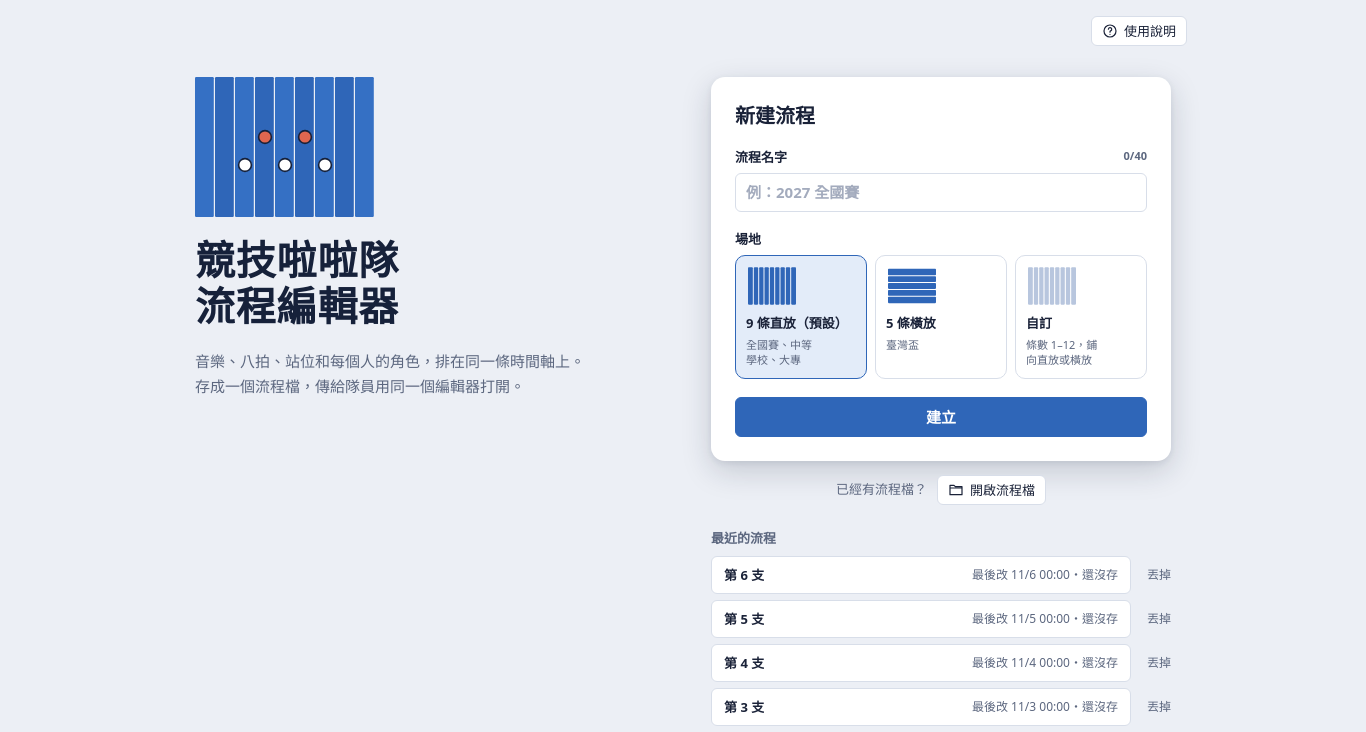
Test: 首頁：最近的流程 › 改過沒存的草稿超過 5 支：首頁提醒有幾支還沒存；教練丟掉一支，剩 5 支就不提醒
What coordinates should you click on to do the following:
click the button with aria-label "丟掉「第 3 支」"
I would click on:
 (1159, 707)
Its box is [1147,697,1171,717].
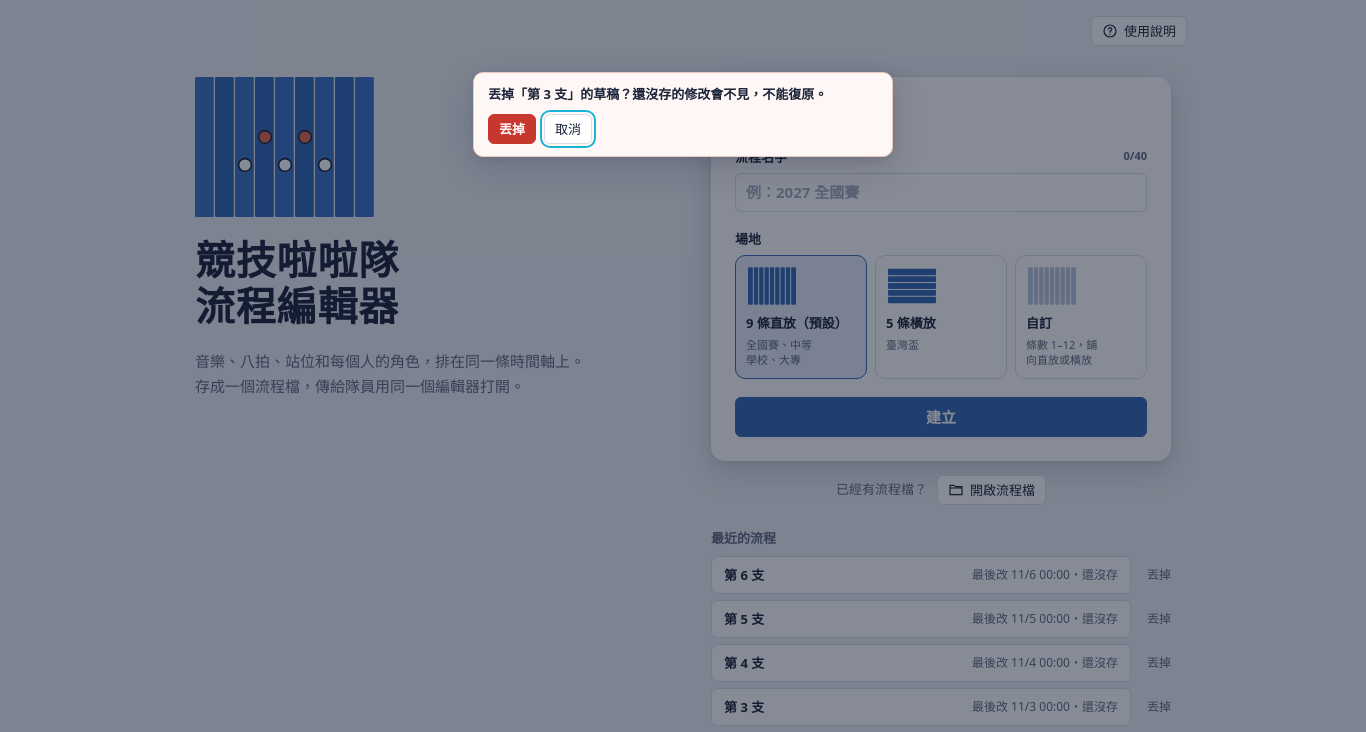
What coordinates should you click on to do the following:
click the button "丟掉"
I would click on:
 (512, 129)
Its box is [488,114,536,144].
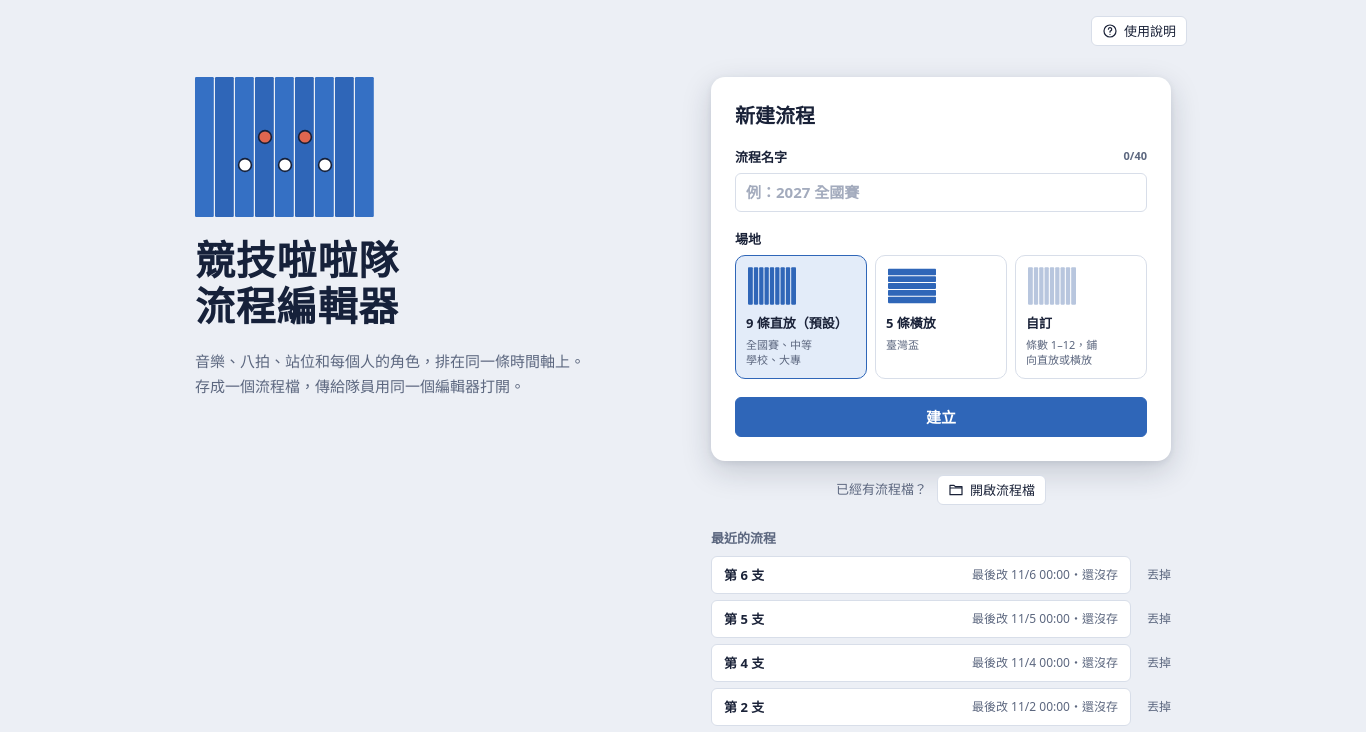
Expected: the button "第 3 支" is gone
